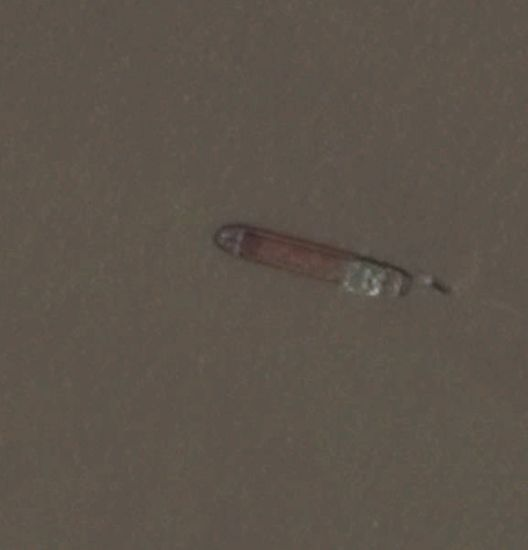boat: (209, 222, 415, 302)
